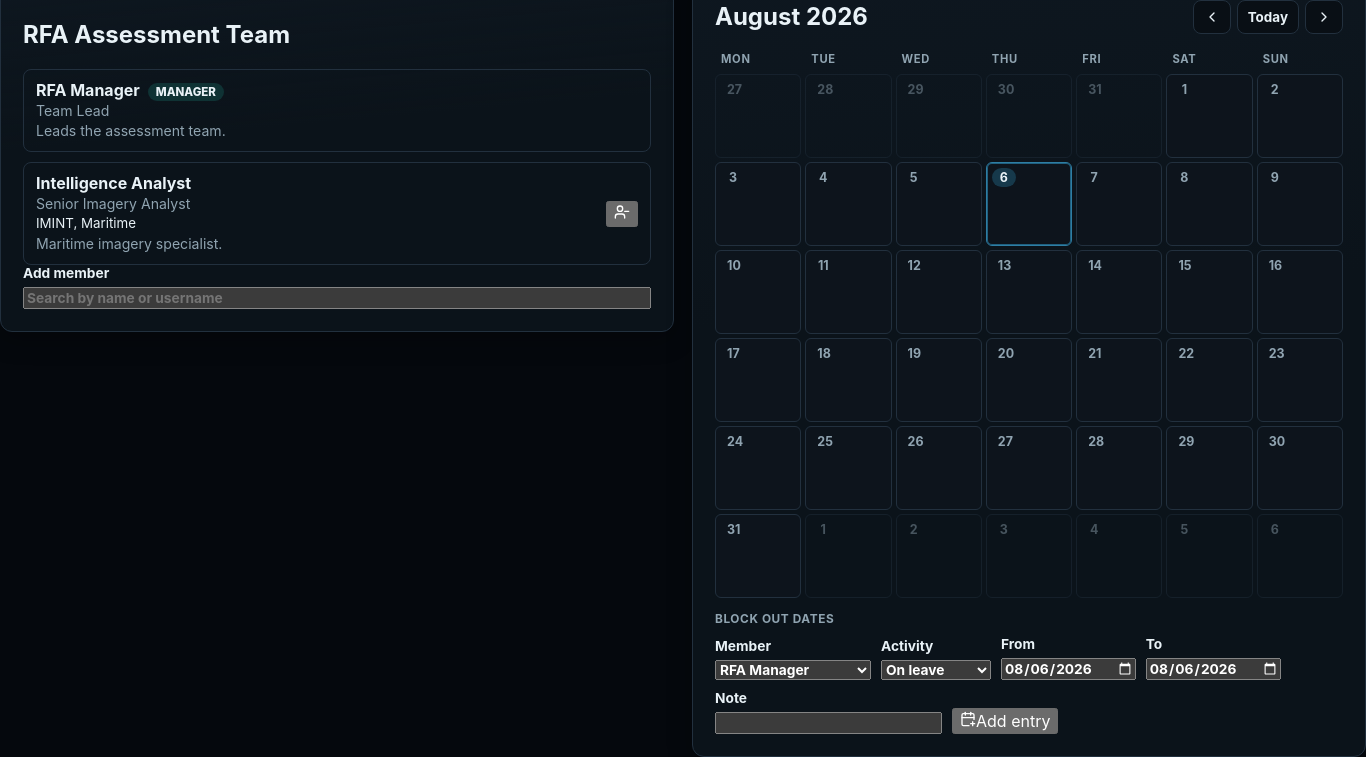
Test case: shows an empty grid and surfaces entry failures
(page scrolled)
Expected: the element named "Month calendar" is shown, x1=715 y1=48 x2=1343 y2=598
Click the button "Add entry".
click(1005, 721)  # box x1=952 y1=708 x2=1058 y2=734
(page scrolled)
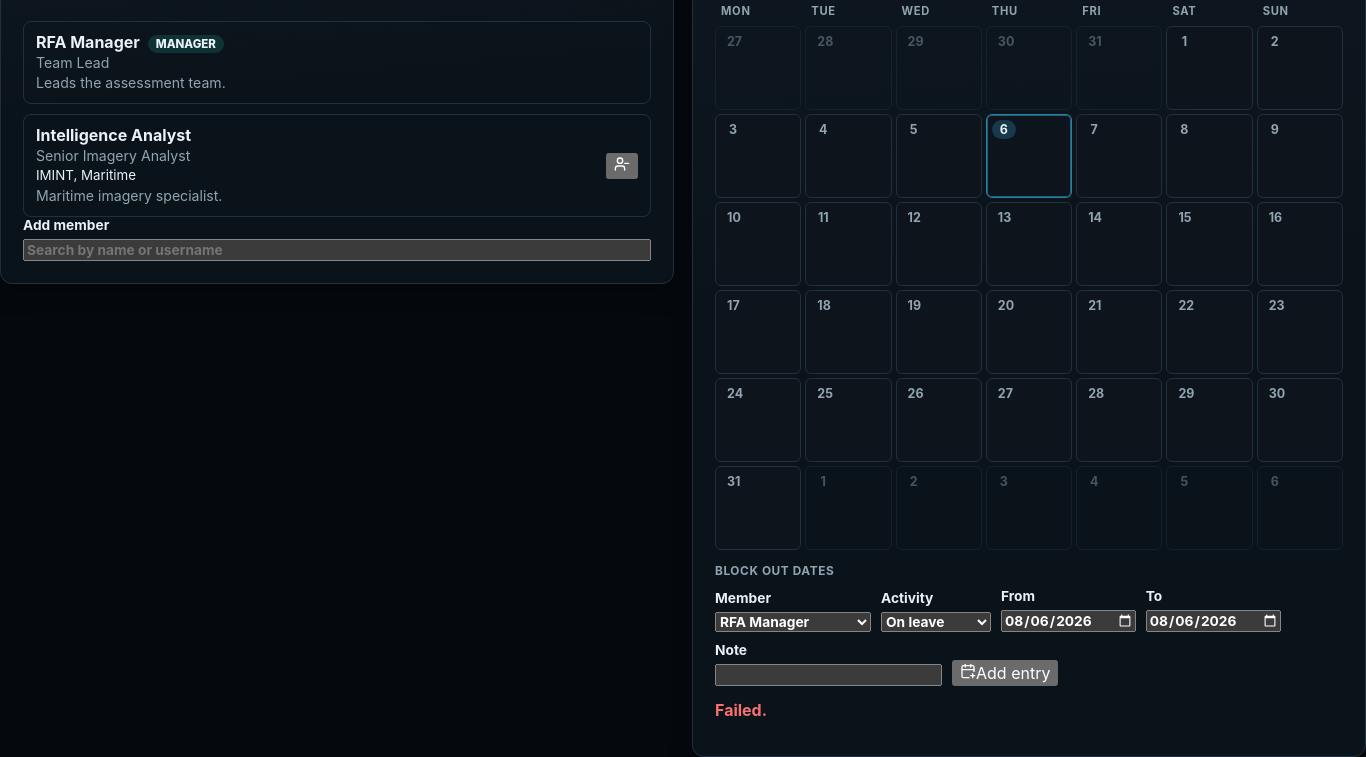
Expected: the text "Failed." is shown, x1=715 y1=700 x2=767 y2=720
